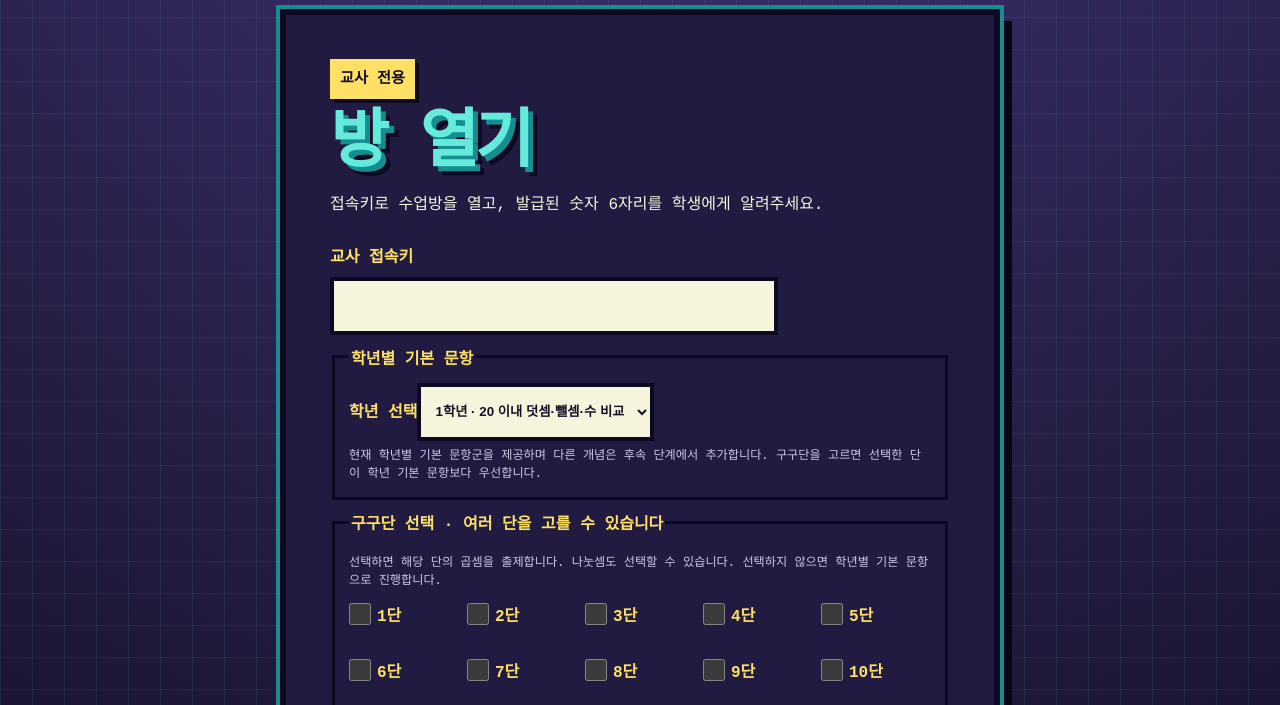
Test: 교사 방 화면 › 방 발급 응답이 올바르지 않으면 임의의 주소로 이동하지 않는다
In the password field labelled "교사 접속키": coordinates (554, 306) left=330, top=277, right=778, bottom=335, type "teacher-secret"
(page scrolled)
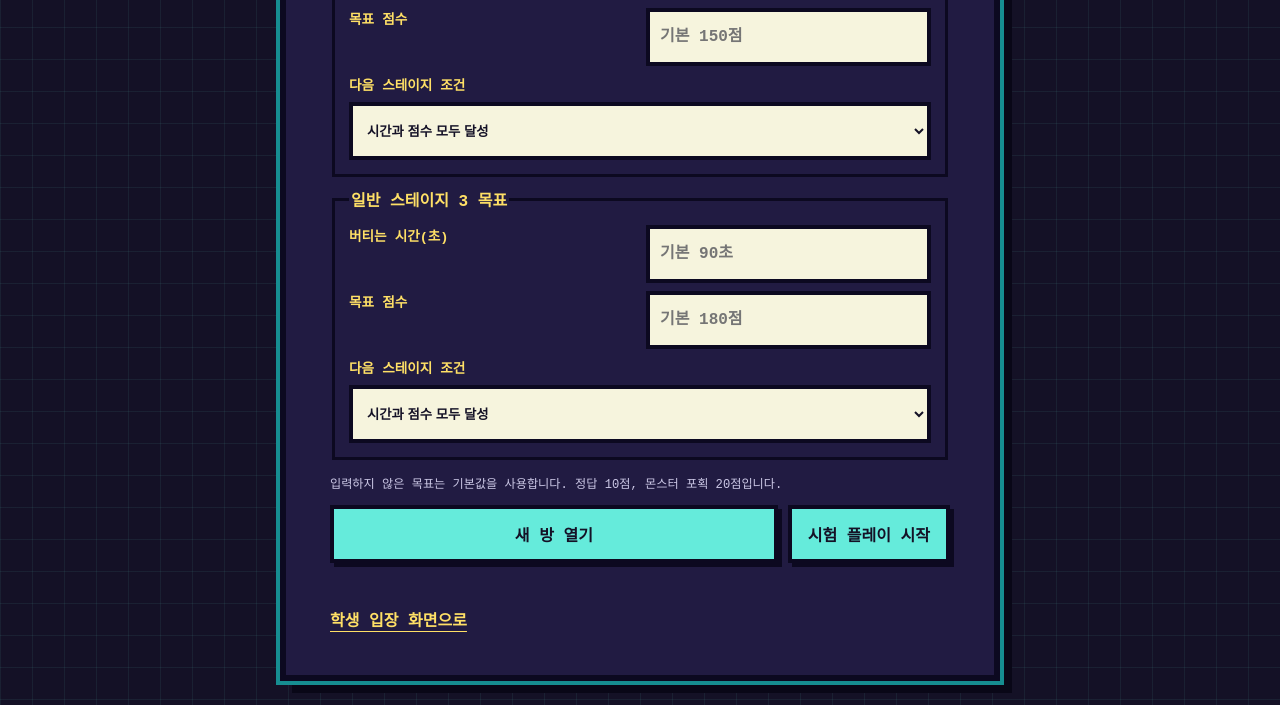
Click the button "시험 플레이 시작": coordinates (869, 534) left=788, top=505, right=950, bottom=563
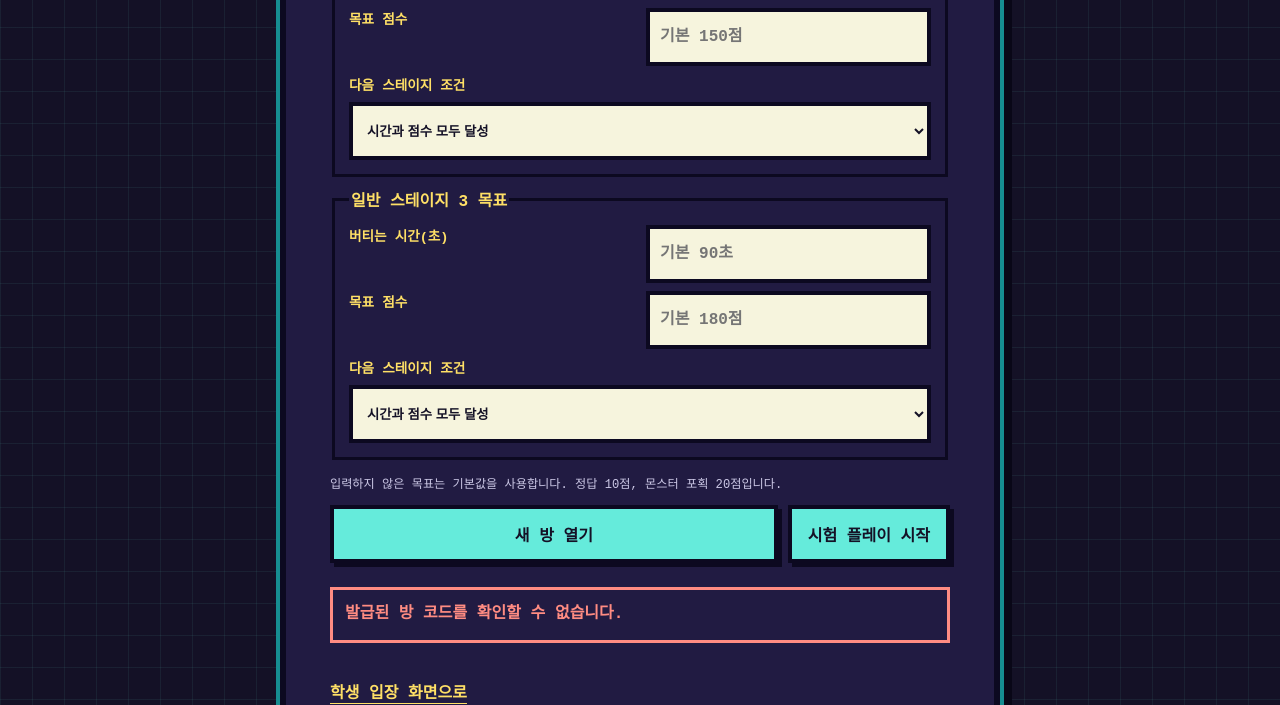
Check: the message reads "발급된 방 코드를 확인할 수 없습니다.", box left=345, top=605, right=623, bottom=623
